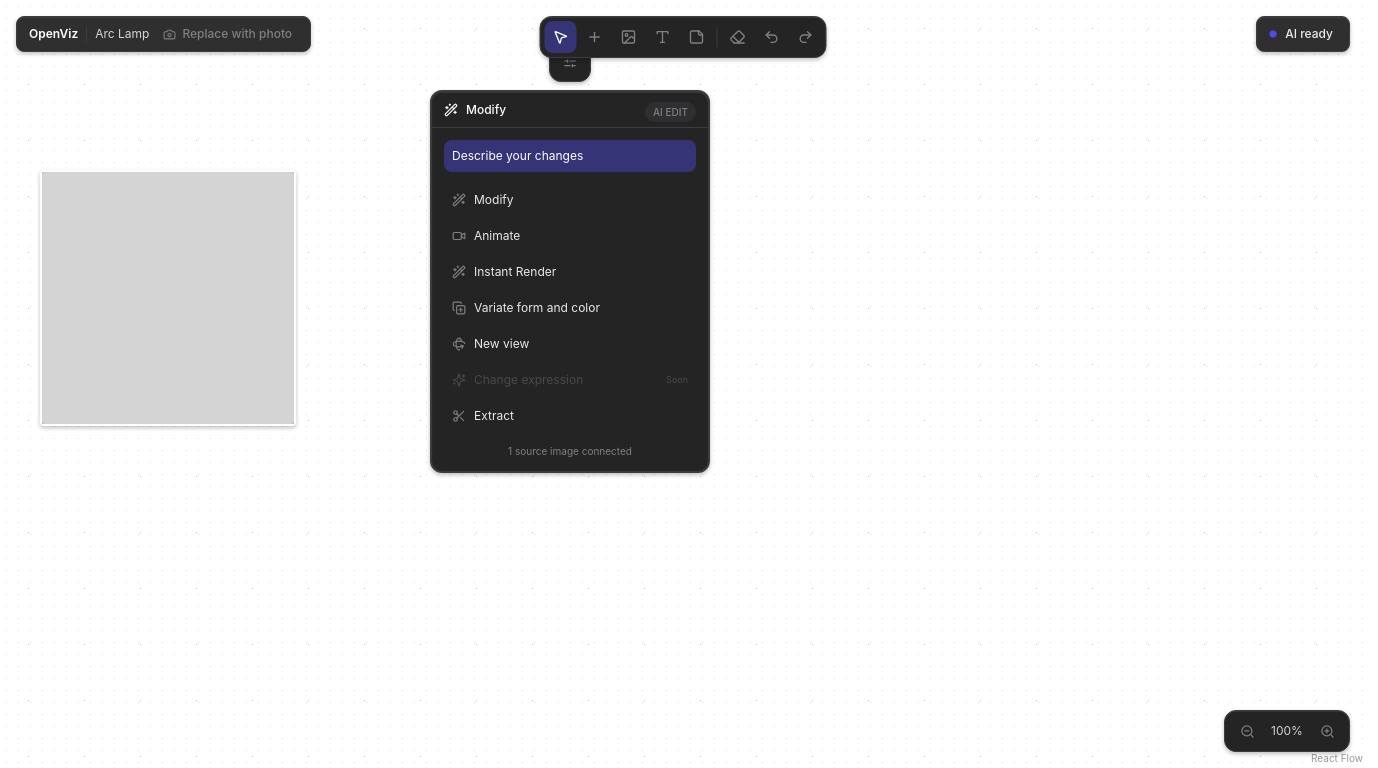
Test: GenerationNodeMockup › morphs into the Modify edit panel as soon as the prompt field button is clicked, keeping focus on the prompt
The image size is (1378, 768).
Click the button "Describe your changes" at (570, 156), box [444, 140, 696, 172]
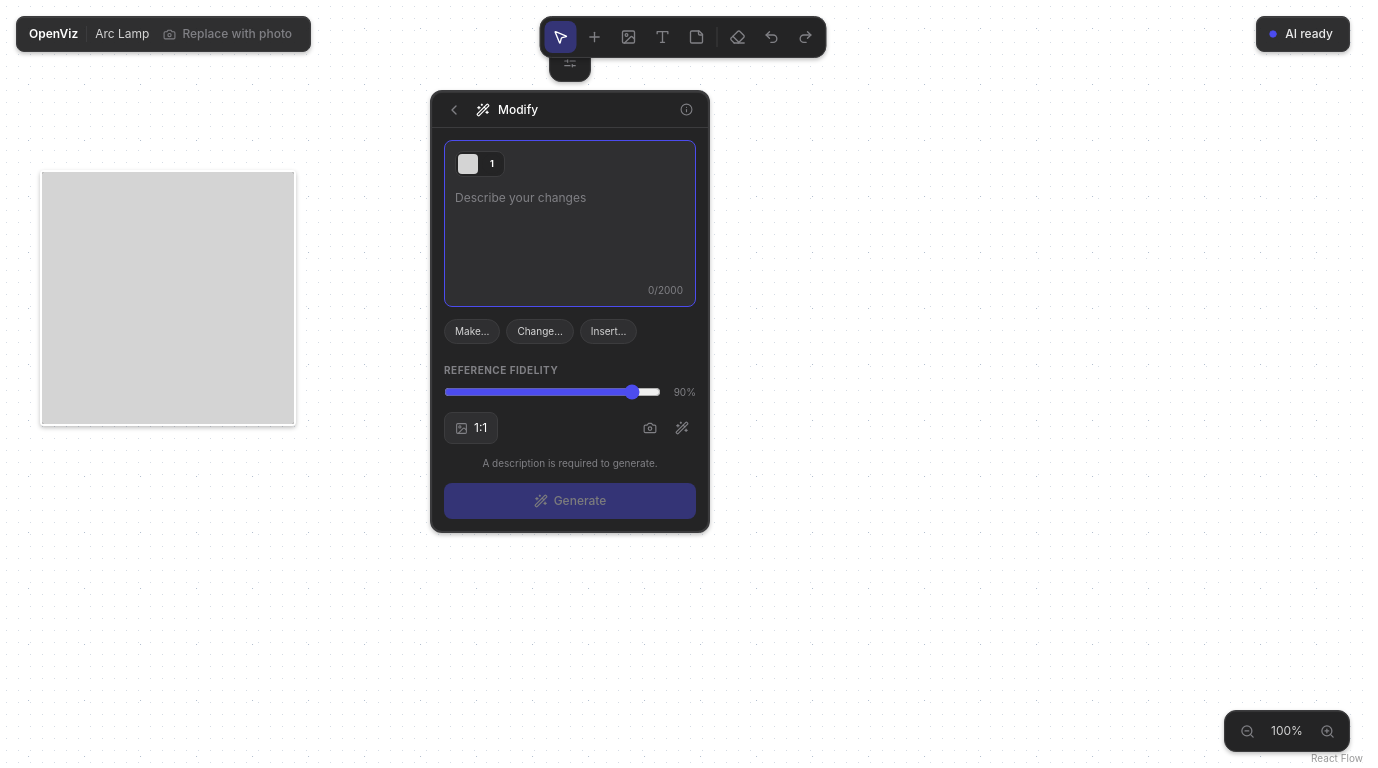
Check: the button named "Aspect ratio 1:1" is shown, box [444, 412, 498, 444]
Check: the text "1" is shown, box [490, 157, 494, 171]
Check: the button "Generate" is disabled, box [444, 483, 696, 519]
